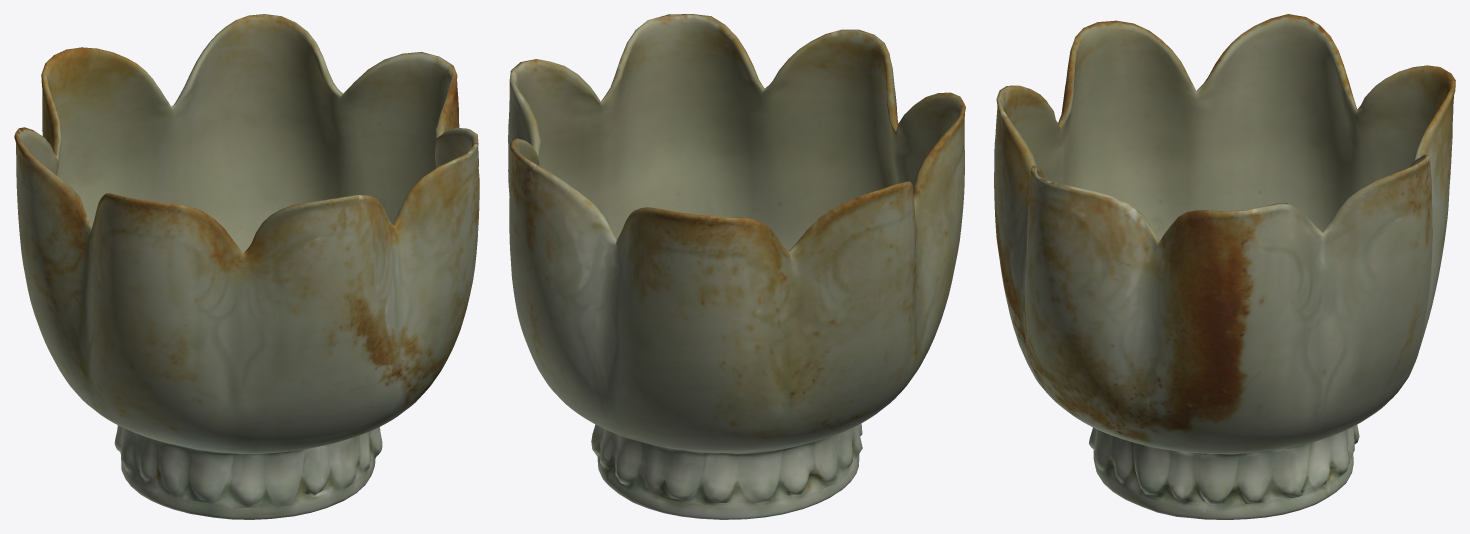
The picture shows the model from 3 angles, left to right: view 1: azimuth 30°, elevation 25°; view 2: azimuth 150°, elevation 25°; view 3: azimuth 270°, elevation 25°; orthographic projection.
Visible parts, largest first — view 1: ZhuWanA_S_1; view 2: ZhuWanA_S_1; view 3: ZhuWanA_S_1.
Part boxes in pixels (x1=…): ZhuWanA_S_1: x1=14, y1=14, x2=479, y2=519; ZhuWanA_S_1: x1=508, y1=14, x2=965, y2=519; ZhuWanA_S_1: x1=994, y1=14, x2=1455, y2=519.
Size of the model in its own units: 168 by 141 by 164.
